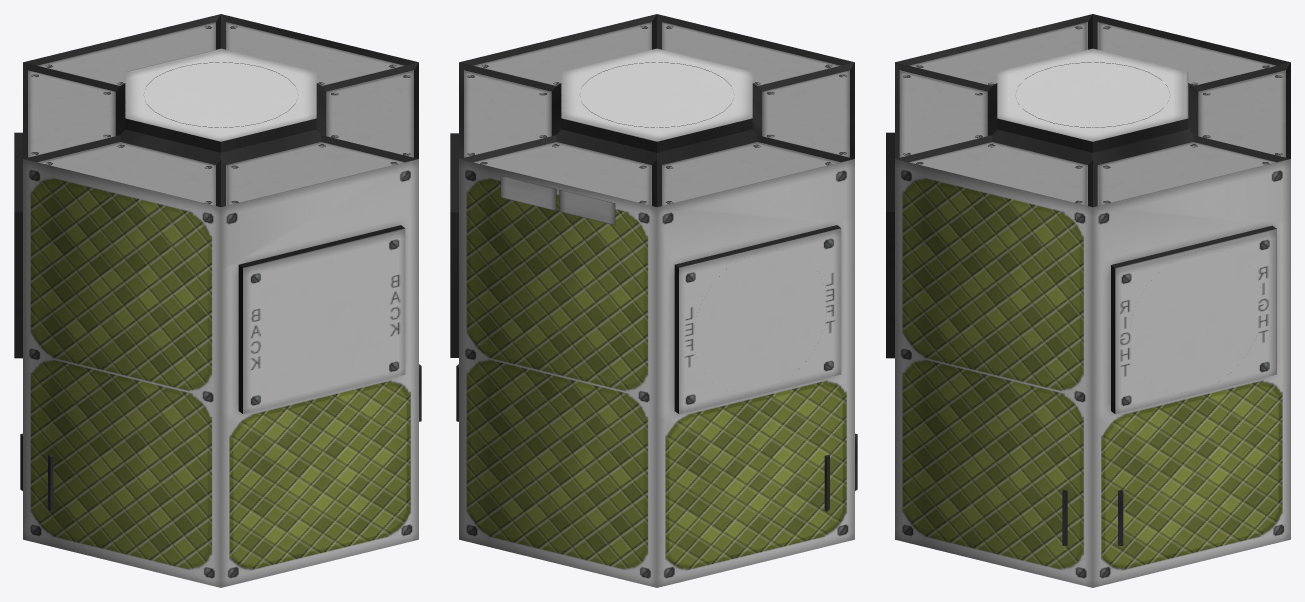
File: StationHubSpace.FBX
The picture shows the model from 3 angles, left to right: view 1: azimuth 30°, elevation 25°; view 2: azimuth 150°, elevation 25°; view 3: azimuth 270°, elevation 25°; orthographic projection.
Visible parts, largest first — view 1: Cylinder015; view 2: Cylinder015, HVAC001, HVAC002; view 3: Cylinder015, AvionicsBox003.
Part boxes in pixels (x1,y1,x2,y2): Cylinder015: (14,14,418,587); Cylinder015: (450,14,854,587); HVAC001: (500,175,556,210); HVAC002: (559,189,615,225); Cylinder015: (886,14,1290,587); AvionicsBox003: (1062,489,1123,545).
Size of the model in its own units: 1.87 by 1.86 by 1.66.
2 materials, 2 textured.
